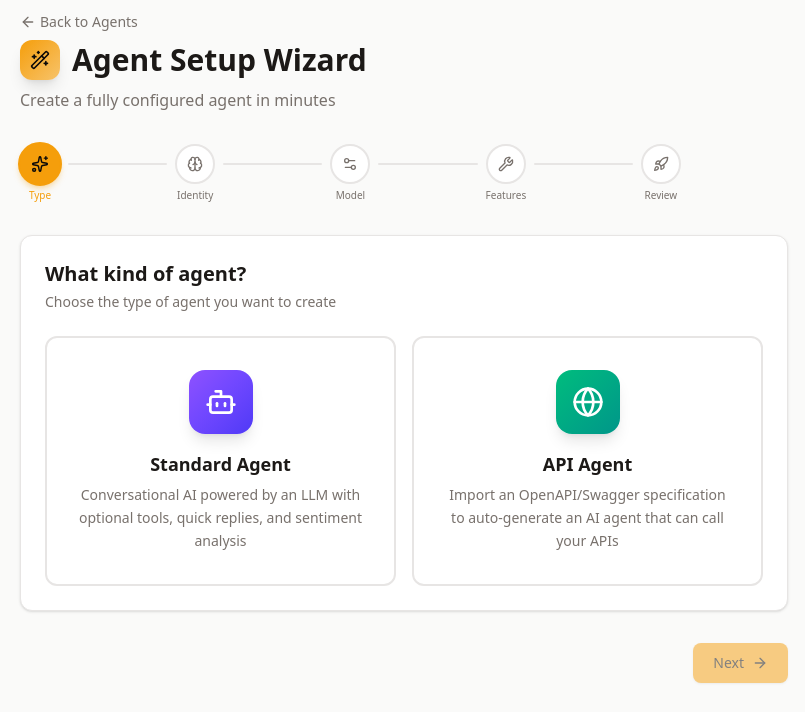
Test case: AgentWizardPage › selects API Agent and navigates to step 2
Click the button with test id "type-api": (588, 461) [412, 336, 763, 586]
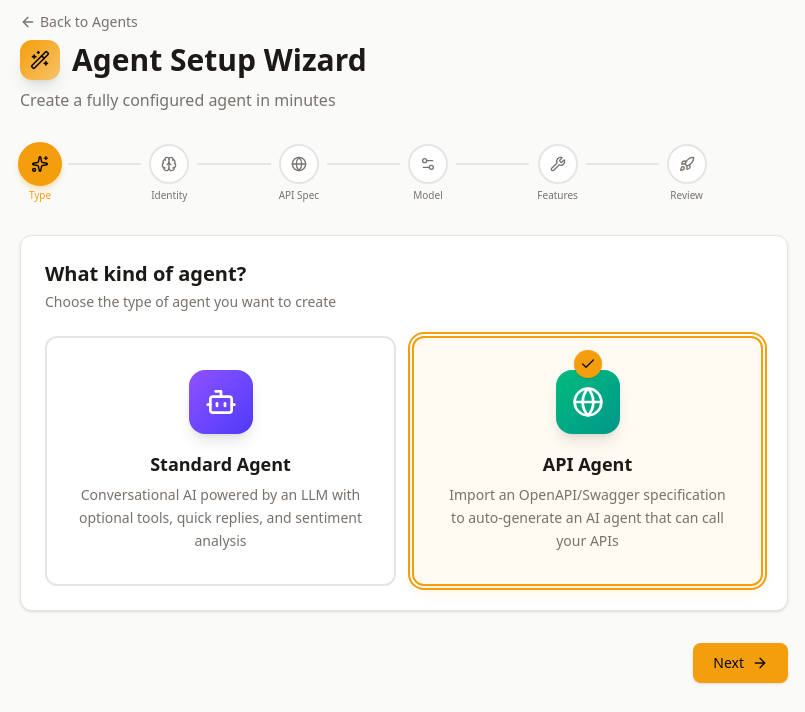
Click the button with test id "wizard-next": (741, 663) [693, 643, 788, 683]
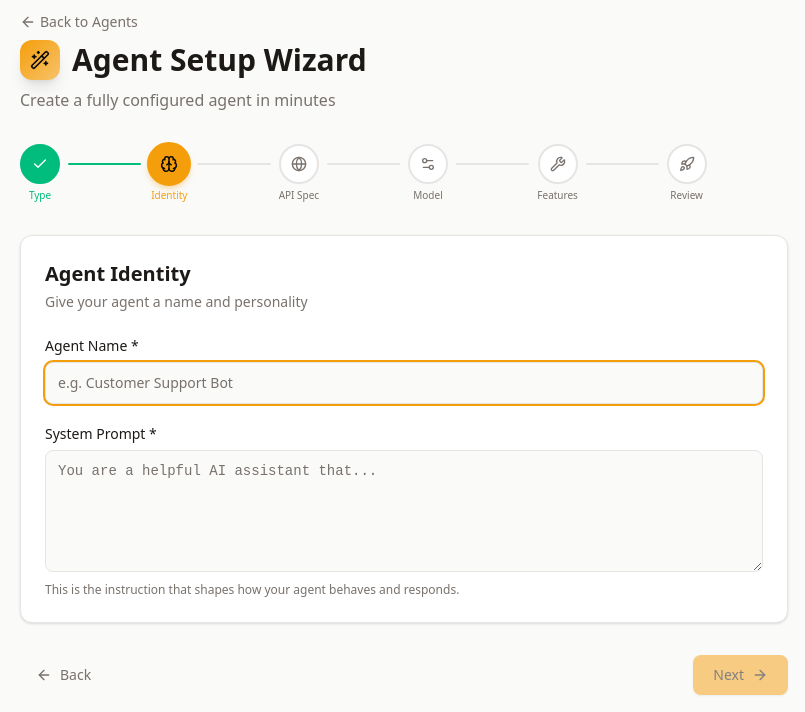
expect the field with test id "wizard-agent-name" is shown: met, box [45, 362, 763, 404]
